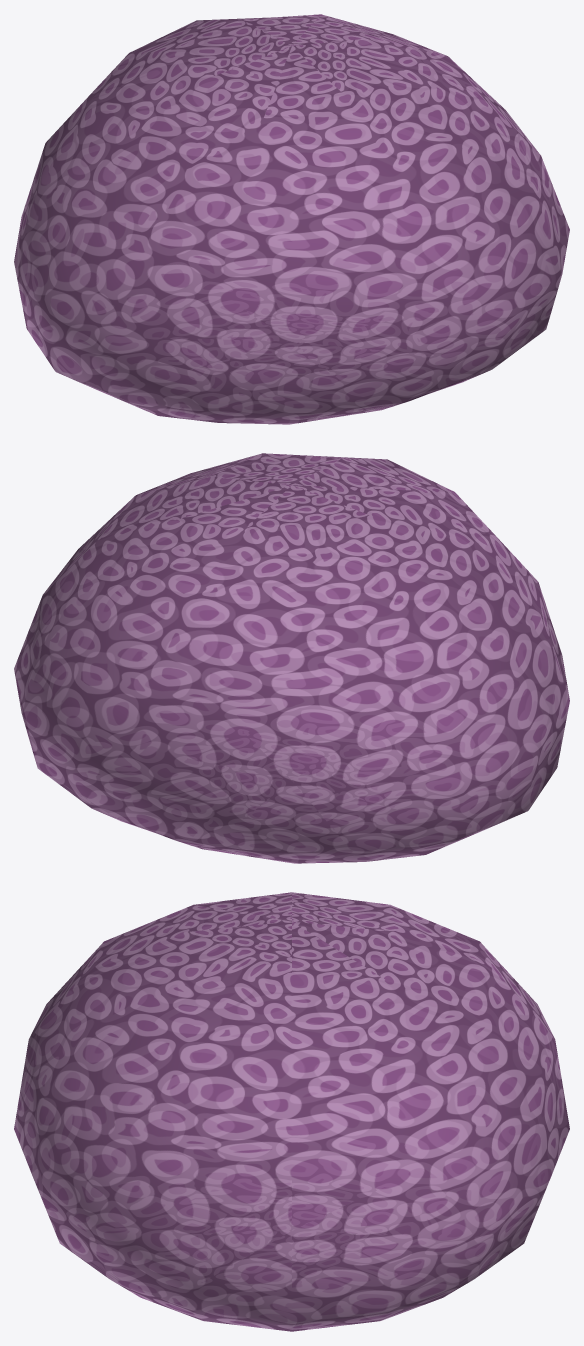
Rendered from coral morado.fbx.
3 renders of one model, top to bottom at view 1: azimuth 30°, elevation 25°; view 2: azimuth 150°, elevation 25°; view 3: azimuth 270°, elevation 25°, orthographic. The views are drawn at different scales.
Parts seen in each view (by area): view 1: Box001; view 2: Box001; view 3: Box001.
Part boxes in pixels (x1=…): Box001: x1=14, y1=14, x2=569, y2=424; Box001: x1=14, y1=453, x2=569, y2=863; Box001: x1=14, y1=892, x2=569, y2=1331.
Size of the model in its own units: 16.84 by 9.94 by 15.94.
